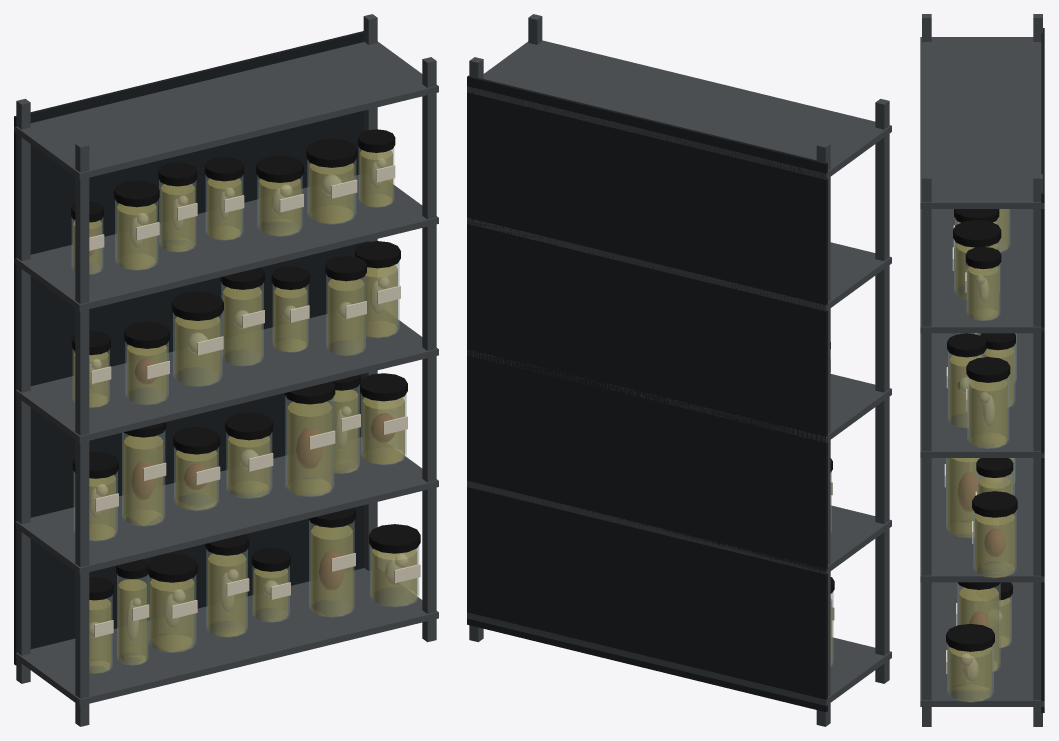
Rendered from specimen_shelf.glb.
3 views of the same model, side by side, from view 1: azimuth 30°, elevation 25°; view 2: azimuth 150°, elevation 25°; view 3: azimuth 270°, elevation 25° (orthographic). The views are drawn at different scales.
Parts seen in each view (by area): view 1: SpecimenShelf; view 2: SpecimenShelf; view 3: SpecimenShelf.
Boxes of the visible parts, <box> form: SpecimenShelf: <box>14,14,438,726</box>; SpecimenShelf: <box>467,14,891,726</box>; SpecimenShelf: <box>920,14,1044,726</box>.
Bounding box in the file's own units: 1.22 × 1.85 × 0.38.
